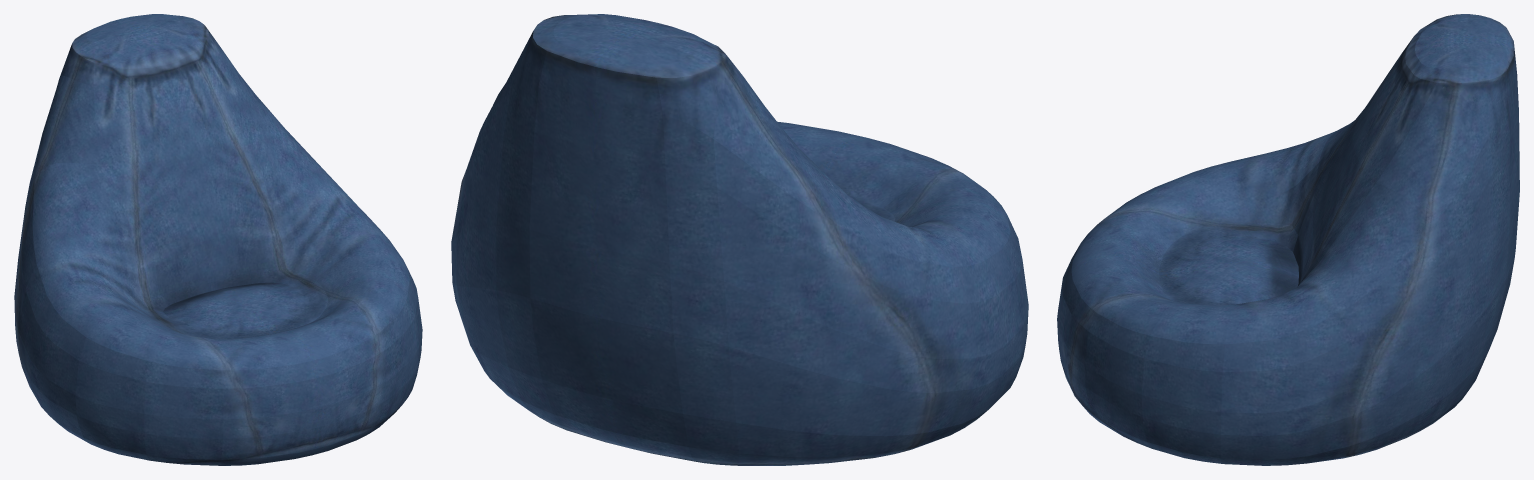
File: Sofa.obj
3 renders of one model, left to right at view 1: azimuth 30°, elevation 25°; view 2: azimuth 150°, elevation 25°; view 3: azimuth 270°, elevation 25°, orthographic. The views are drawn at different scales.
Visible parts, largest first — view 1: Sofa; view 2: Sofa; view 3: Sofa.
Part boxes in pixels (x1,y1,x2,y2): Sofa: (14,14,422,465); Sofa: (451,14,1028,465); Sofa: (1057,14,1519,465).
Size of the model in its own units: 2.82 by 2.3 by 2.8.
Materials: 1 (1 with a texture image).
